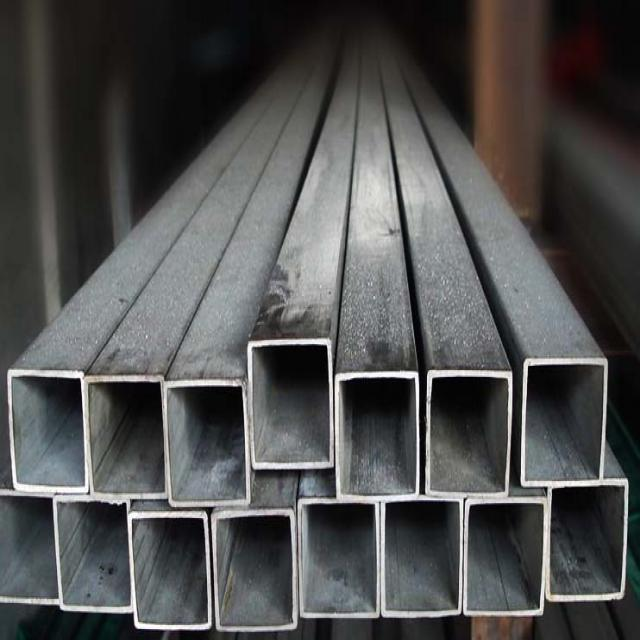pipe: (336, 378, 420, 498), (250, 346, 330, 464), (167, 388, 250, 499), (215, 516, 296, 626), (429, 378, 506, 493), (528, 363, 602, 482), (85, 388, 164, 499), (130, 518, 210, 627), (299, 506, 375, 619), (469, 504, 542, 617), (12, 377, 82, 493), (548, 492, 623, 600), (384, 506, 458, 615), (55, 504, 126, 612), (0, 494, 55, 602)
